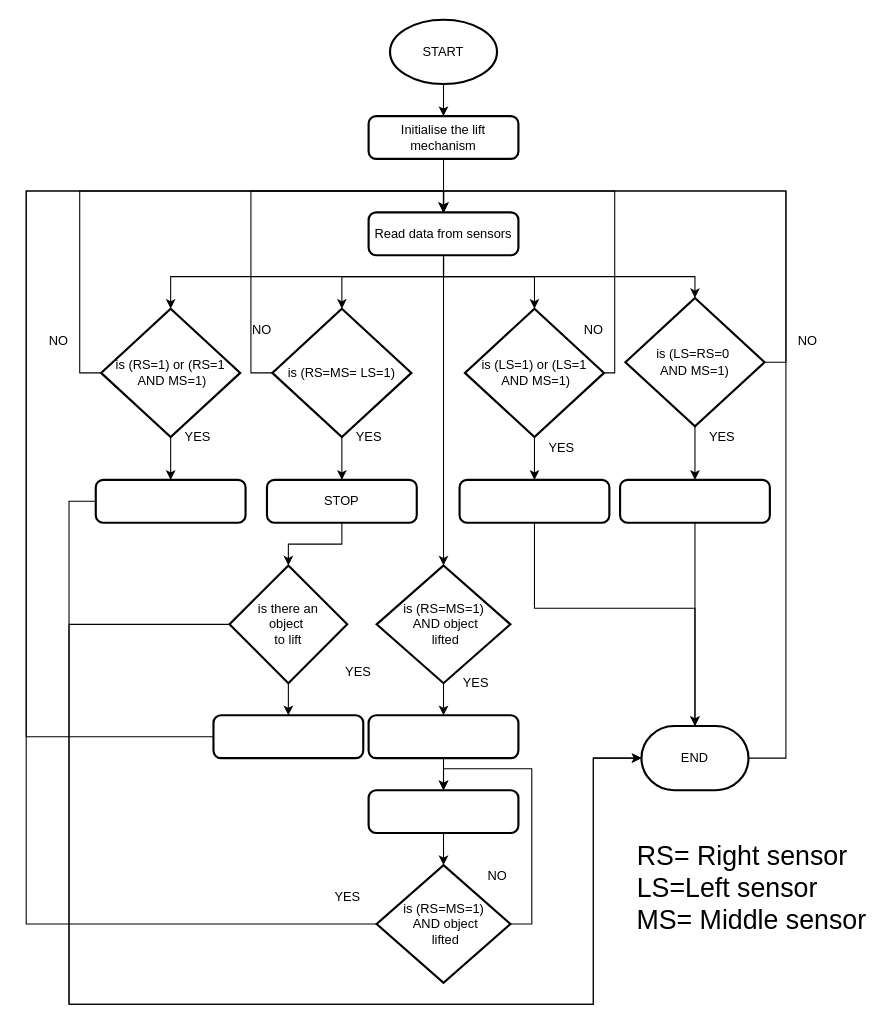
The diagram is 896 pixels wide and 1031 high, and some of its shapes have lost their labels. Here are the shapes that lost their labels. From the top down, the centre of each, then its label:
the point at 170,500: Turn right
the point at 534,500: Turn left
the point at 694,500: Move foward
the point at 288,736: LIFT object
the point at 443,736: Move forward Drop the object
the point at 443,811: Move backwards
